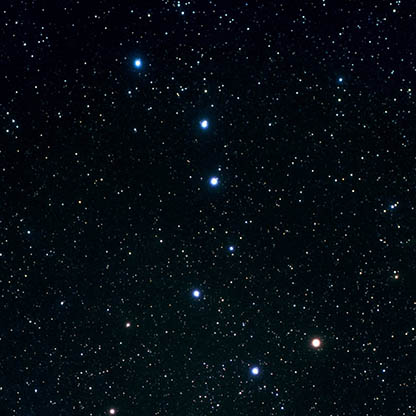Ursa Major: (295, 322, 334, 360), (199, 167, 227, 199), (125, 48, 154, 78), (191, 108, 215, 140), (183, 279, 210, 306), (242, 354, 267, 382), (221, 234, 242, 261)
